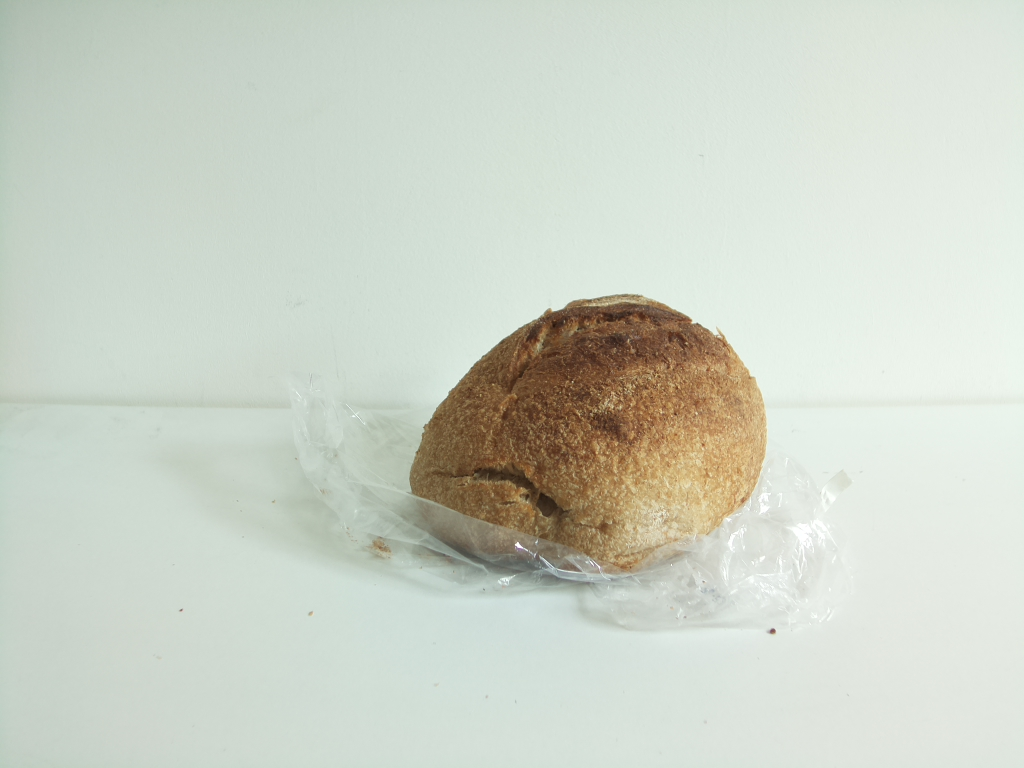bread: (405, 289, 770, 580)
